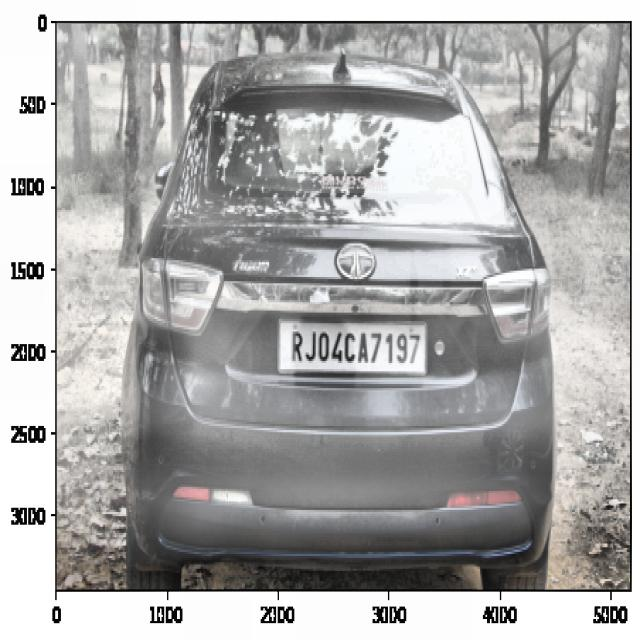license_plate: (286, 324, 425, 379)
